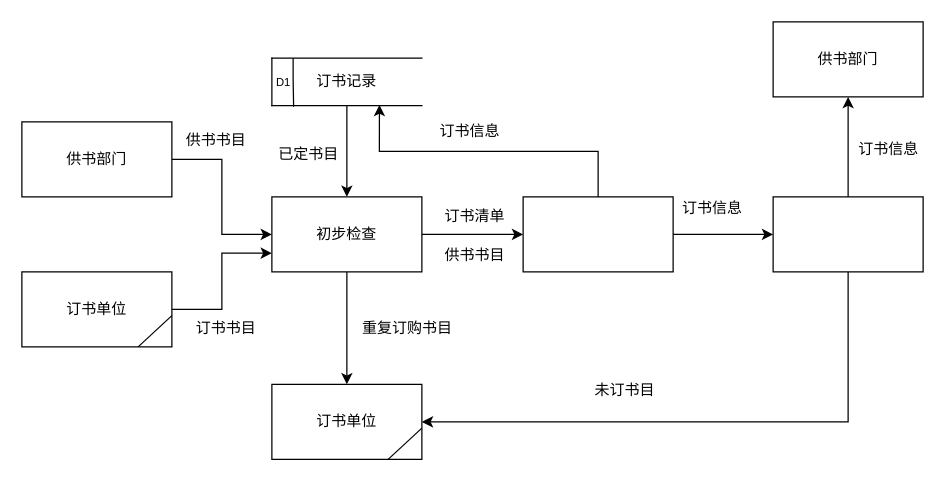
Image size: 951x483. Some labels were removed from this diagram. The centre of each missing label's shape, as x and y in pixels:
反馈订书结果: (x=847, y=234)
记录订书信息: (x=597, y=234)
